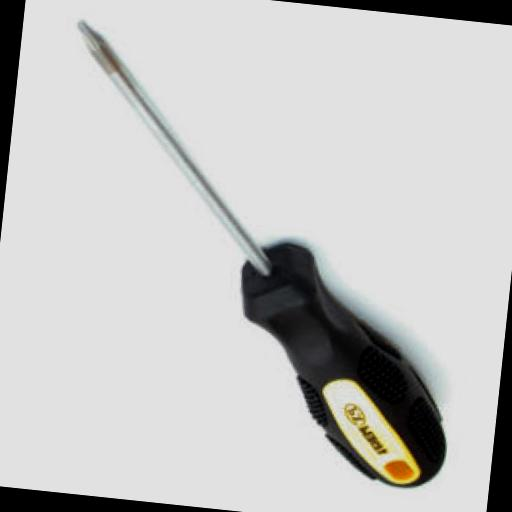screwdriver: (32, 22, 488, 494)
